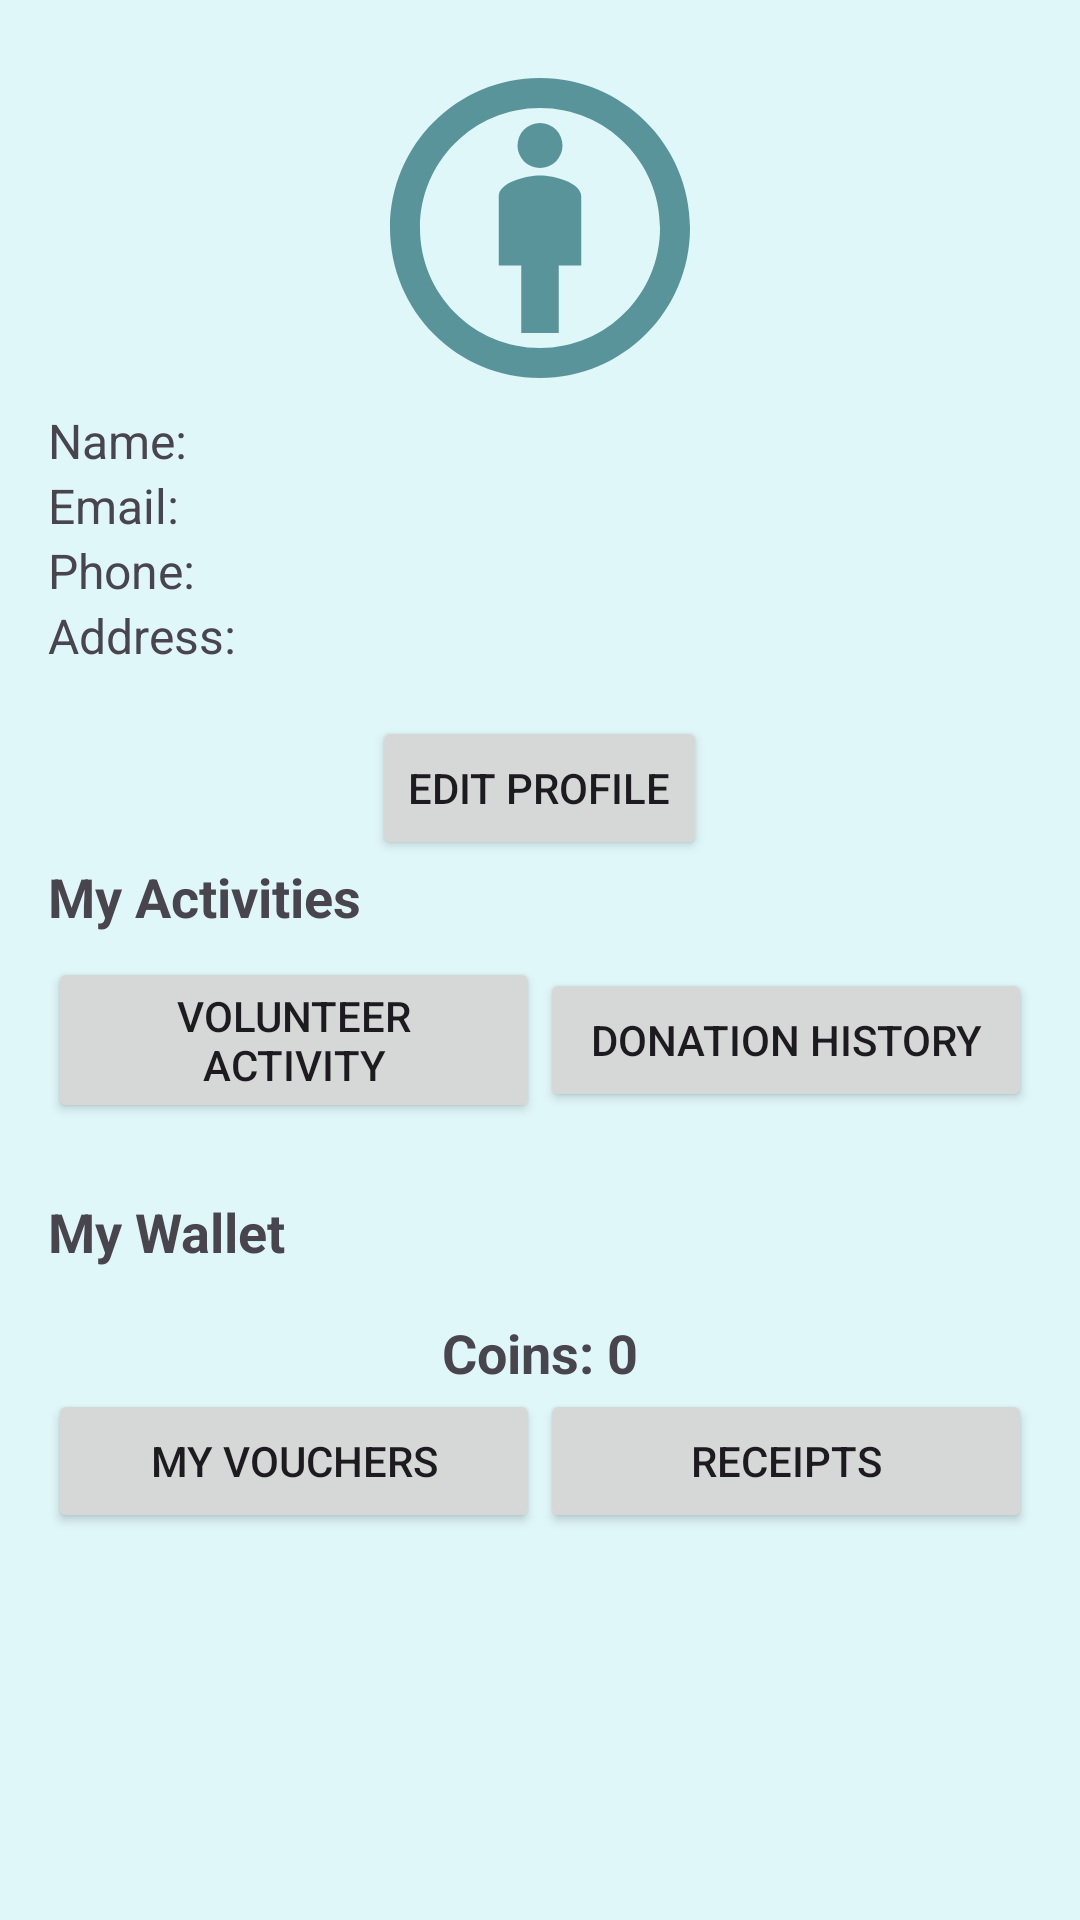

Screen size 1080*1920. Icon name, then its center in pixels as (x,y):
Profile Picture: (540,228)
